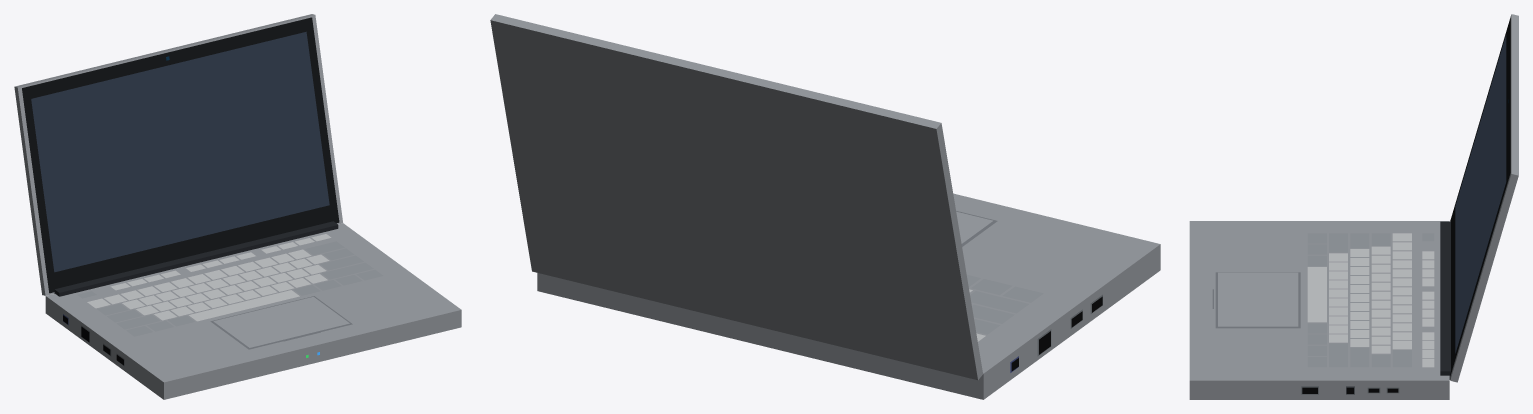
Rendered from Client_Laptop.glb.
3 renders of one model, left to right at view 1: azimuth 30°, elevation 25°; view 2: azimuth 150°, elevation 25°; view 3: azimuth 270°, elevation 25°, orthographic. The views are drawn at different scales.
Visible parts, largest first — view 1: Body, Screen; view 2: Body; view 3: Body, Screen.
Part boxes in pixels (x1=…): Body: x1=14, y1=14, x2=461, y2=399; Screen: x1=31, y1=31, x2=329, y2=272; Body: x1=490, y1=14, x2=1160, y2=399; Body: x1=1189, y1=14, x2=1518, y2=399; Screen: x1=1455, y1=35, x2=1506, y2=353.
Bounding box in the file's own units: 0.3216 × 0.2131 × 0.2789.
